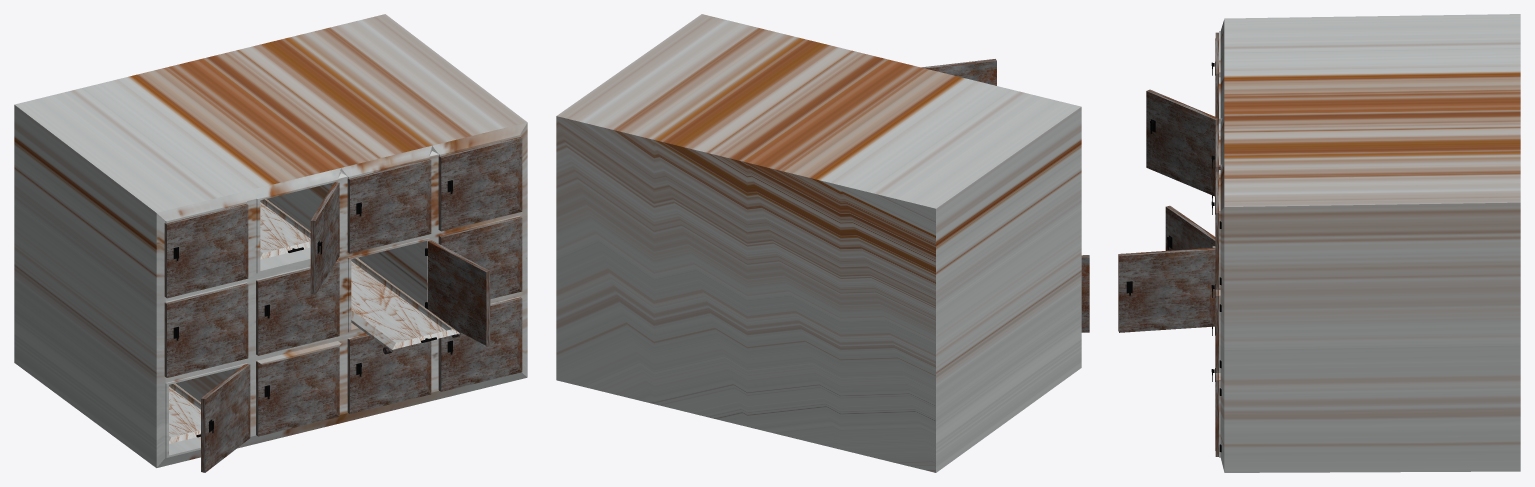
The model's file is MorgueFridge3.fbx.
3 views of the same model, side by side, from view 1: azimuth 30°, elevation 25°; view 2: azimuth 150°, elevation 25°; view 3: azimuth 270°, elevation 25° (orthographic). The views are drawn at different scales.
Parts seen in each view (by area): view 1: Cube, Cube.009, Cube.010, Cube.011, Cube.007, Cube.003, Cube.008, Cube.004, Cylinder.001, Cube.001, Cube.005, Cube.006 (+4 smaller); view 2: Cube, Cube.012, Cube.002; view 3: Cube, Cube.005, Cube.012, Cube.002, Cube.010.
Boxes of the visible parts, x1=… form: Cube: x1=14, y1=14, x2=527, y2=467; Cube.009: x1=347, y1=159, x2=431, y2=253; Cube.010: x1=438, y1=137, x2=522, y2=231; Cube.011: x1=164, y1=203, x2=248, y2=298; Cube.007: x1=164, y1=283, x2=248, y2=377; Cube.003: x1=256, y1=346, x2=339, y2=436; Cube.008: x1=256, y1=261, x2=339, y2=355; Cube.004: x1=347, y1=334, x2=431, y2=413; Cylinder.001: x1=351, y1=258, x2=460, y2=354; Cube.001: x1=438, y1=297, x2=522, y2=391; Cube.005: x1=425, y1=240, x2=490, y2=345; Cube.006: x1=438, y1=216, x2=522, y2=299; Cube: x1=556, y1=14, x2=1081, y2=472; Cube.012: x1=921, y1=59, x2=996, y2=85; Cube.002: x1=1081, y1=255, x2=1089, y2=332; Cube: x1=1212, y1=14, x2=1520, y2=472; Cube.005: x1=1118, y1=247, x2=1215, y2=332; Cube.012: x1=1146, y1=89, x2=1218, y2=196; Cube.002: x1=1165, y1=205, x2=1215, y2=250; Cube.010: x1=1211, y1=171, x2=1221, y2=289.
Bounding box in the file's own units: 1029 × 688 × 927.
5 materials, 4 textured.
